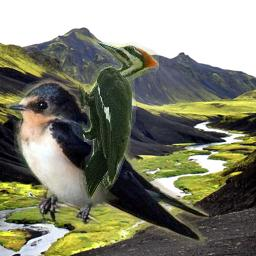Swallow: (6, 78, 209, 248)
Woodpecker: (79, 42, 159, 199)
